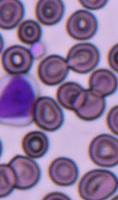L: (0, 73, 38, 125)
